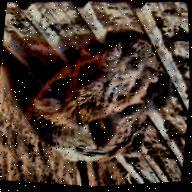boar: (7, 27, 186, 191)
